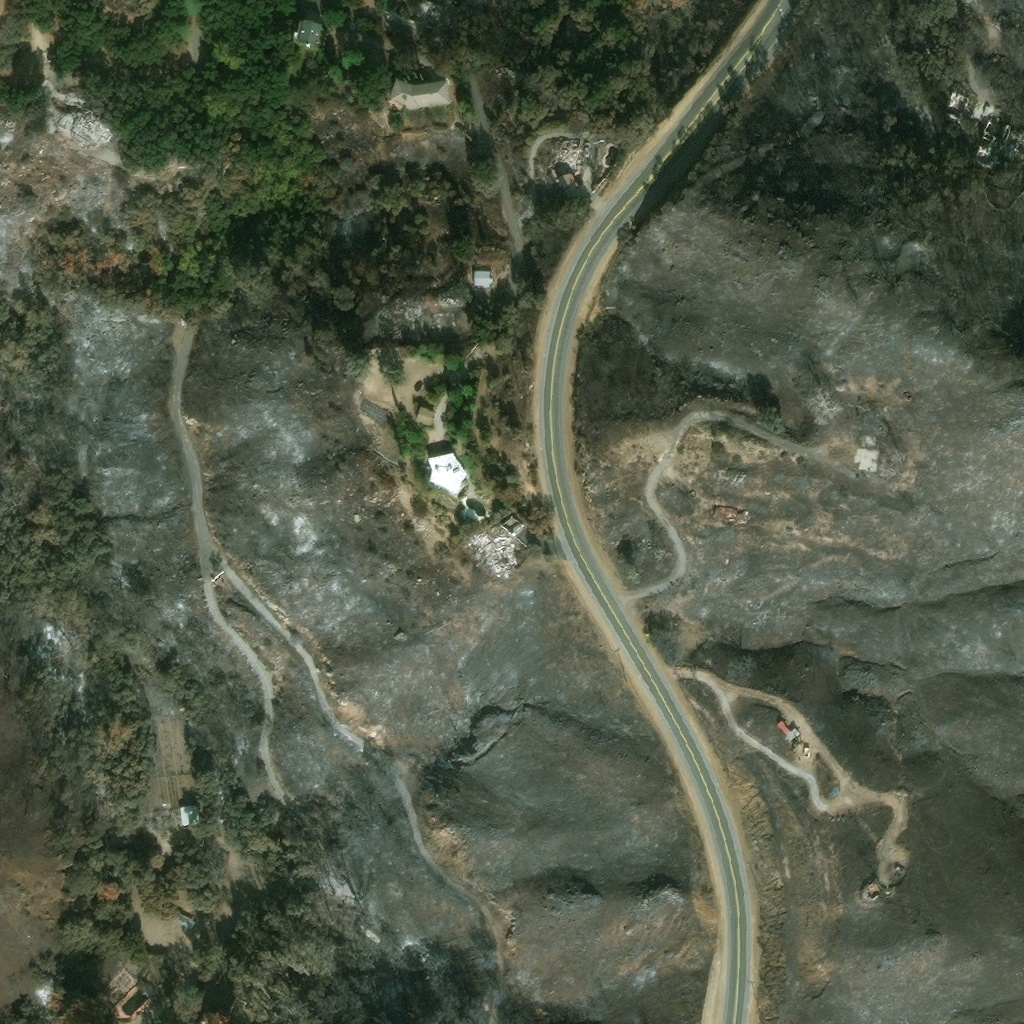0 no-damage: (391, 78, 450, 110), (292, 18, 323, 48), (179, 804, 201, 825), (199, 1007, 227, 1023), (557, 172, 578, 192), (416, 403, 433, 424), (472, 268, 491, 285)
1 minor-damage: (775, 719, 799, 743)
2 major-damage: (711, 505, 743, 519)
3 destroyed: (972, 117, 1023, 166), (425, 451, 467, 495), (477, 535, 518, 572), (944, 86, 976, 118), (553, 139, 580, 172), (82, 121, 113, 147), (853, 436, 875, 469), (55, 108, 80, 132), (862, 874, 885, 899), (359, 399, 388, 416), (502, 513, 523, 534), (114, 974, 131, 991), (160, 810, 171, 826), (394, 324, 404, 335)
